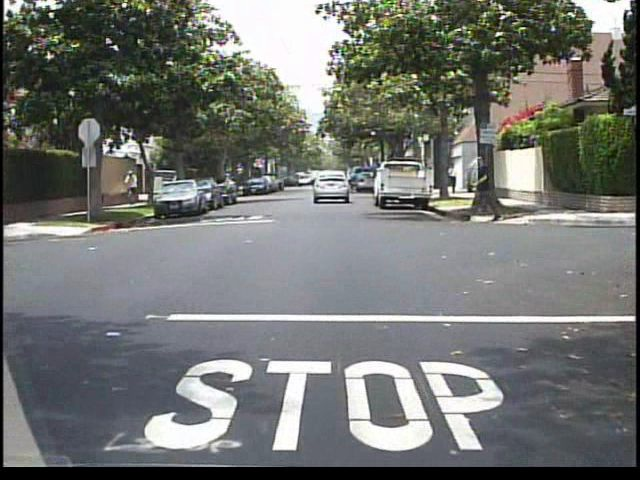person: (458, 151, 504, 225), (123, 168, 144, 205), (168, 169, 185, 202), (448, 160, 461, 198)
